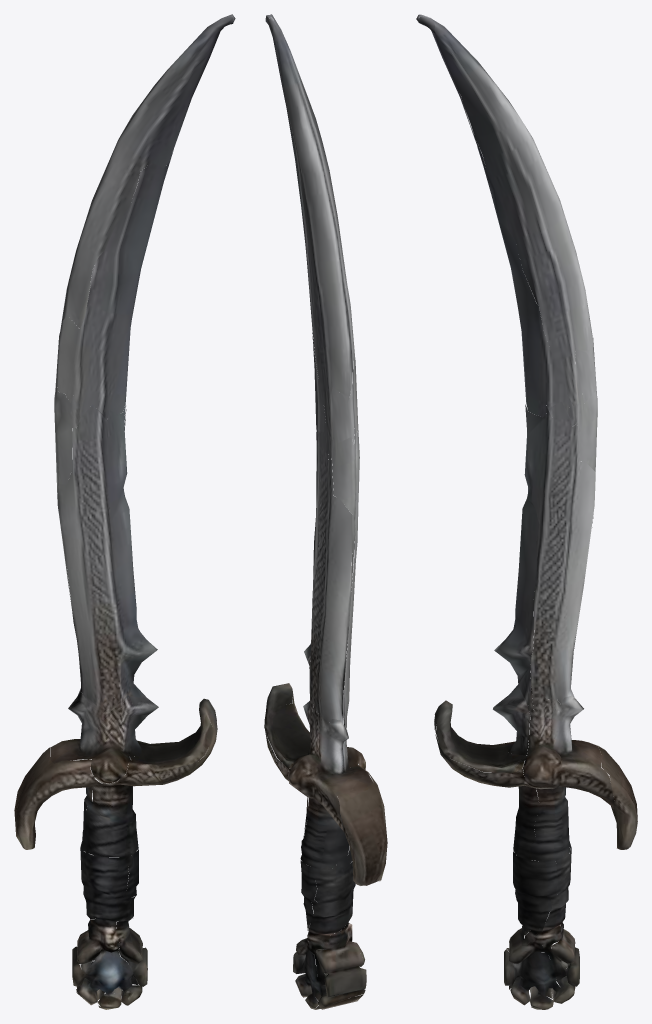
The model's file is scimitar.glb.
3 views of the same model, side by side, from view 1: azimuth 90°, elevation 25°; view 2: azimuth 210°, elevation 25°; view 3: azimuth 270°, elevation 25° (orthographic). The views are drawn at different scales.
Visible parts, largest first — view 1: scimitar; view 2: scimitar; view 3: scimitar.
Boxes of the visible parts, <box> form: scimitar: <box>14,14,235,1009</box>; scimitar: <box>264,14,387,1009</box>; scimitar: <box>416,14,637,1009</box>.
Size of the model in its own units: 0.0881 by 1.08 by 0.2196.
1 material, 1 textured.
